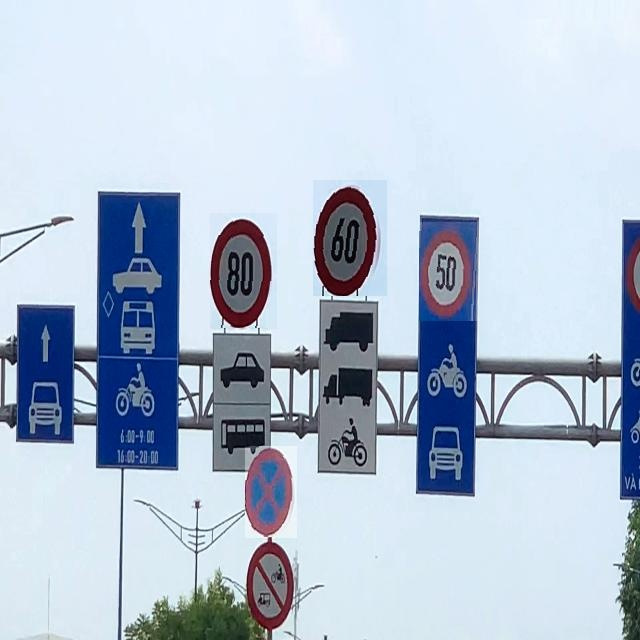bien_chi_dan: (313, 180, 387, 296), (210, 213, 277, 329), (419, 222, 478, 321), (245, 446, 297, 538)
